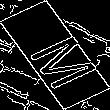M_NE: (13, 22, 97, 88)
